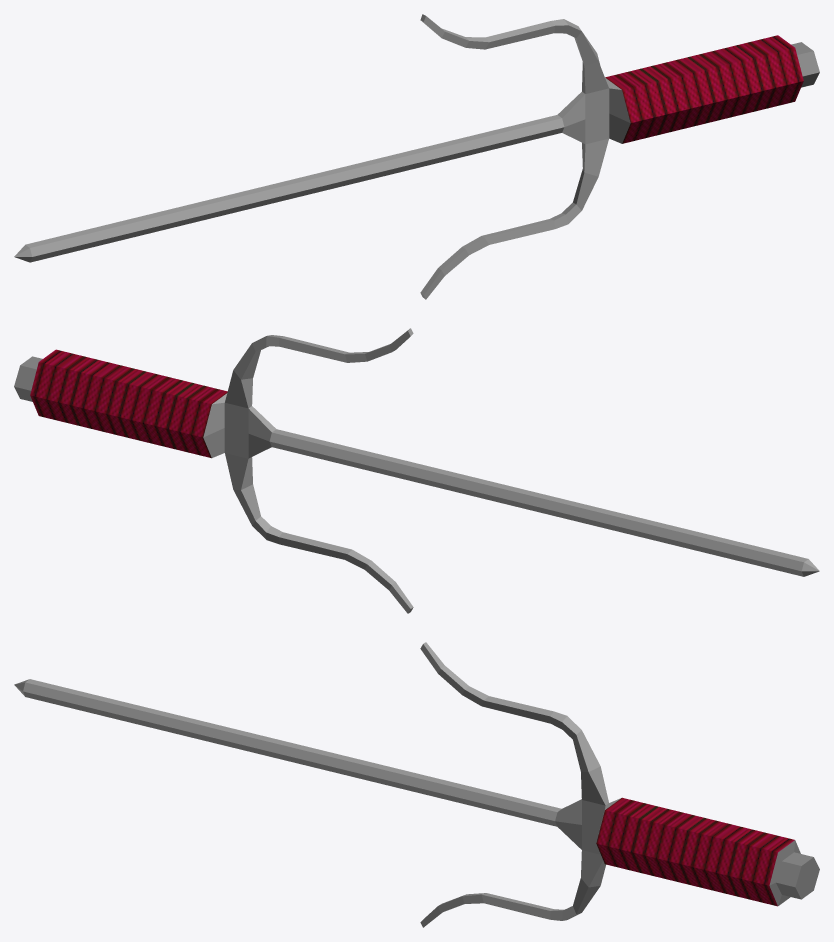
File: Sai.fbx
3 views of the same model, one above another, from view 1: azimuth 30°, elevation 25°; view 2: azimuth 150°, elevation 25°; view 3: azimuth 330°, elevation 25° (orthographic).
Visible parts, largest first — view 1: Sai; view 2: Sai; view 3: Sai.
Part boxes in pixels (<box>): Sai: <box>14,14,819,299</box>; Sai: <box>14,328,819,613</box>; Sai: <box>14,642,819,927</box>.
Bounding box in the file's own units: 70.66 × 24.17 × 5.3.
